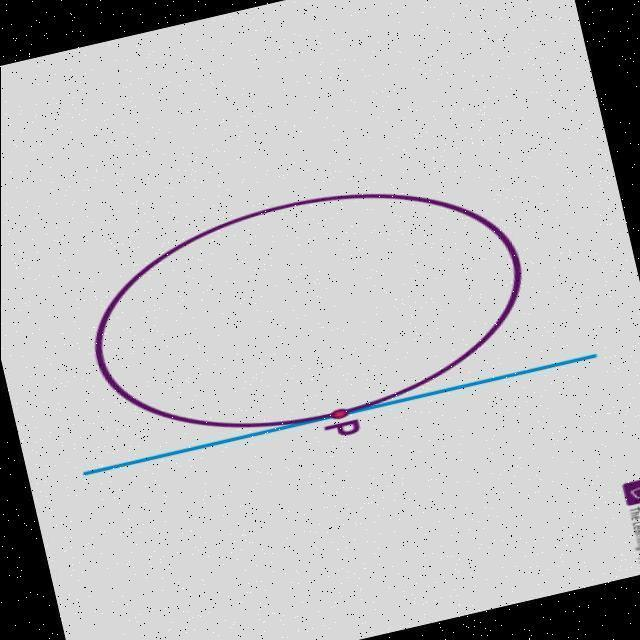Circle: (86, 190, 523, 433)
